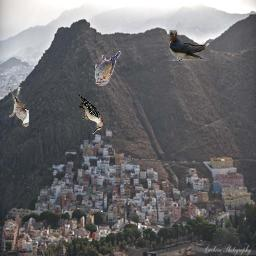Cuckoo: (9, 87, 29, 127)
Sparrow: (95, 51, 121, 86)
Swallow: (169, 30, 209, 61)
Woodpecker: (76, 94, 103, 134)
